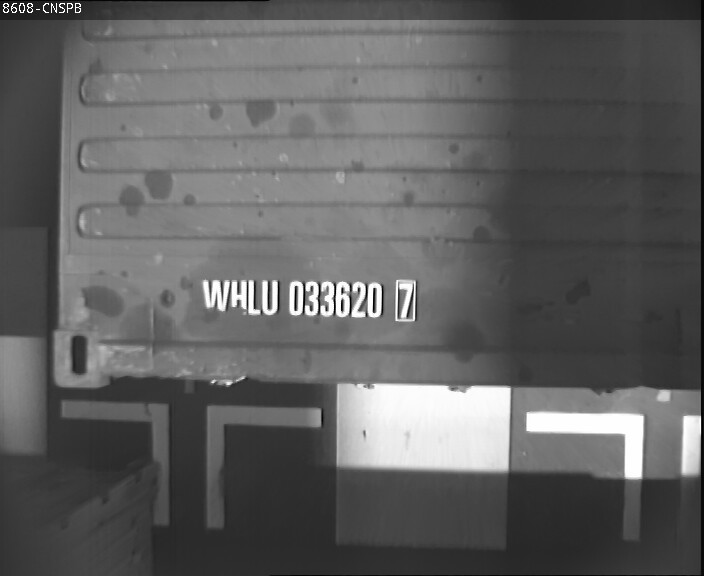groundmarker_1: (56, 399, 323, 531)
